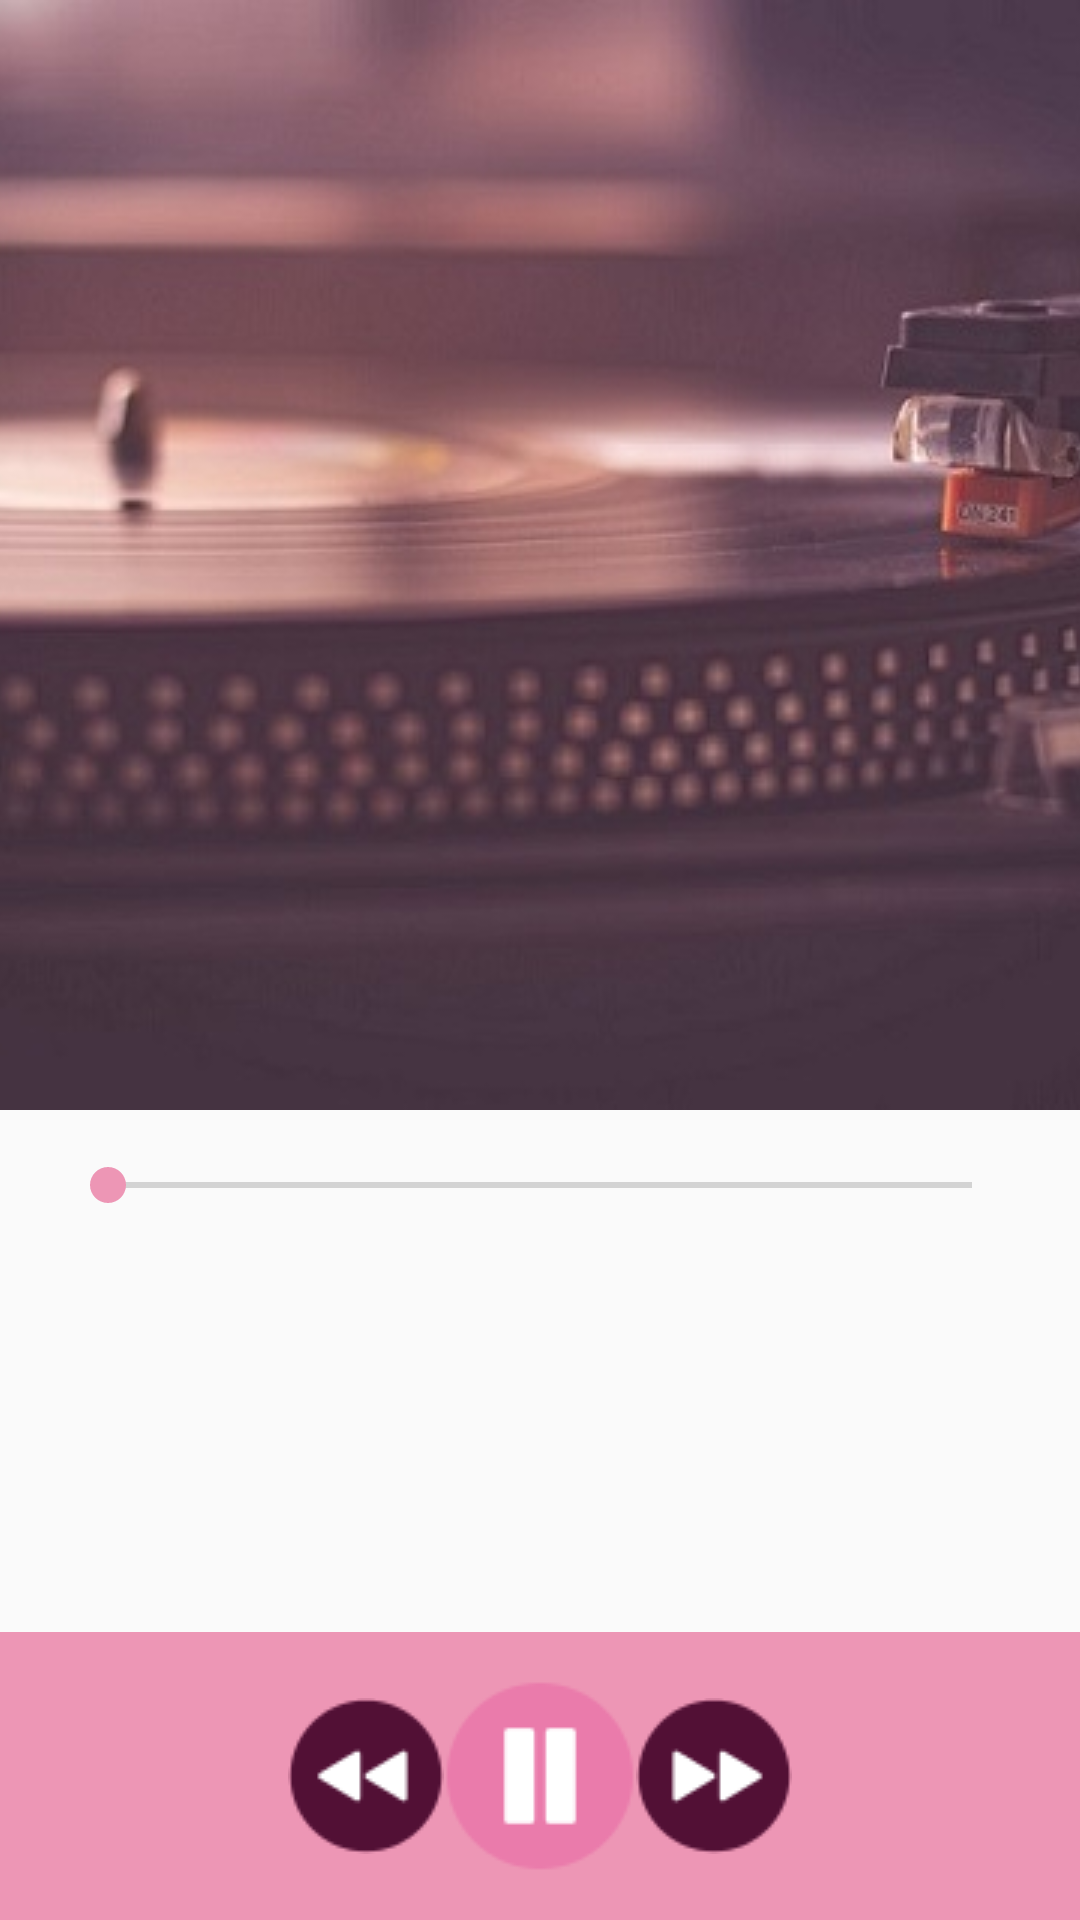

Locate icon controls on the screen. Image size 1080px x 1920px, boxes as detection(x1, y1, x2, y2).
fast forward: detection(636, 1700, 792, 1852)
previous: detection(288, 1700, 444, 1852)
